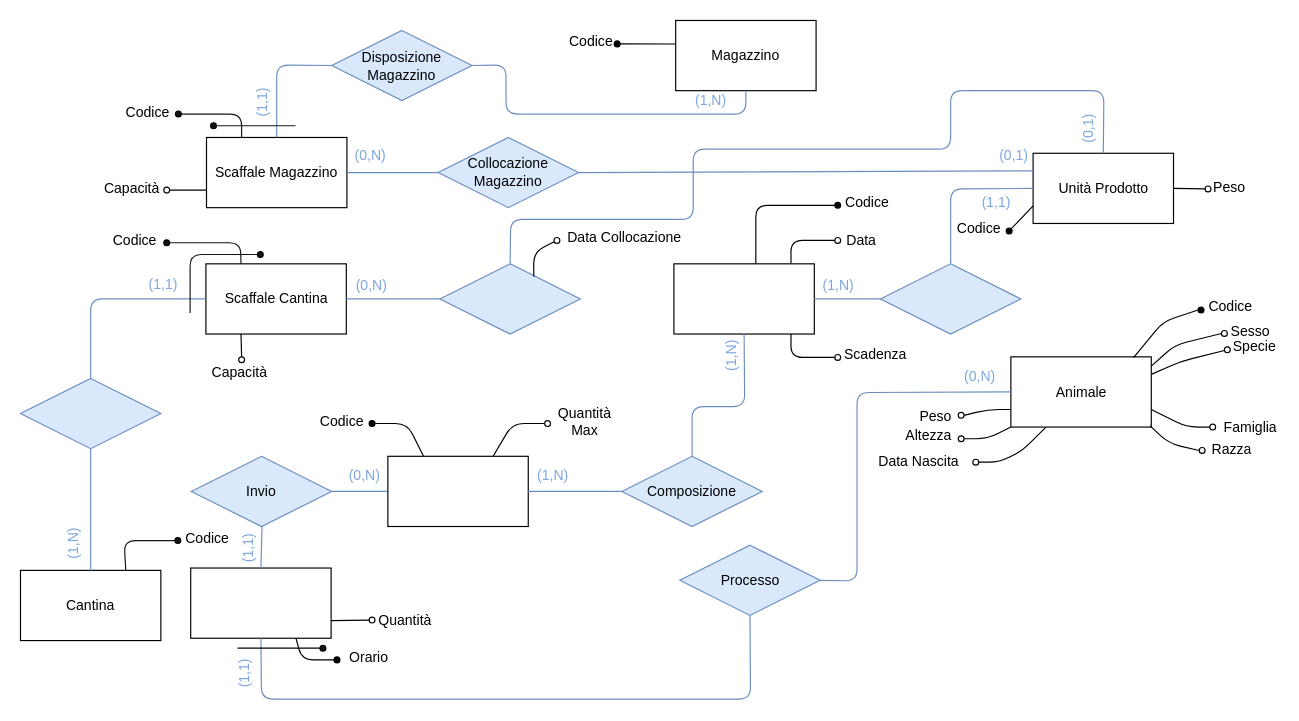
Image size: 1299x721. Some labels were removed from this diagram. Each missing label, with the centre of its shape:
"Collocazione Cantina" goes at point 509,298.
"Disposizione Cantina" goes at point 90,413.
"Lotto" goes at point 743,298.
"Mungitura" goes at point 260,602.
"Produzione" goes at point 950,298.
"Silos" goes at point 457,490.
